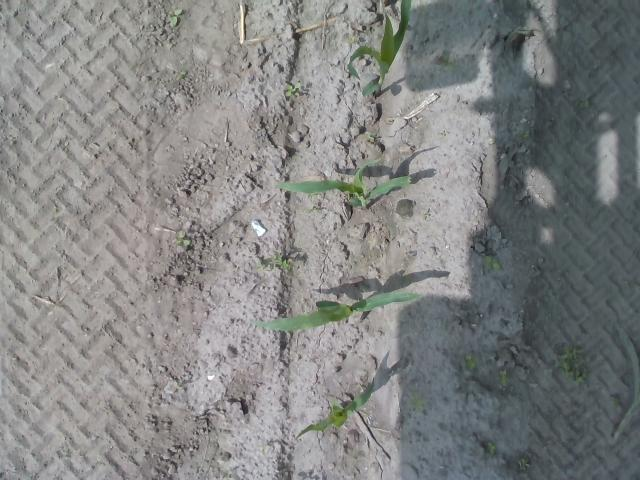Maize: (276, 154, 412, 212), (254, 288, 424, 332), (344, 0, 414, 102), (294, 376, 376, 446)
Weeds: (556, 343, 588, 384), (253, 252, 290, 271), (458, 352, 481, 370), (482, 254, 503, 272), (280, 80, 303, 96), (174, 229, 192, 249), (168, 8, 182, 28), (406, 392, 423, 408), (441, 54, 456, 69), (498, 368, 510, 386), (574, 99, 592, 110), (486, 441, 496, 455), (514, 456, 528, 466), (347, 35, 358, 44), (518, 130, 530, 138), (175, 72, 186, 80), (367, 134, 375, 144)
